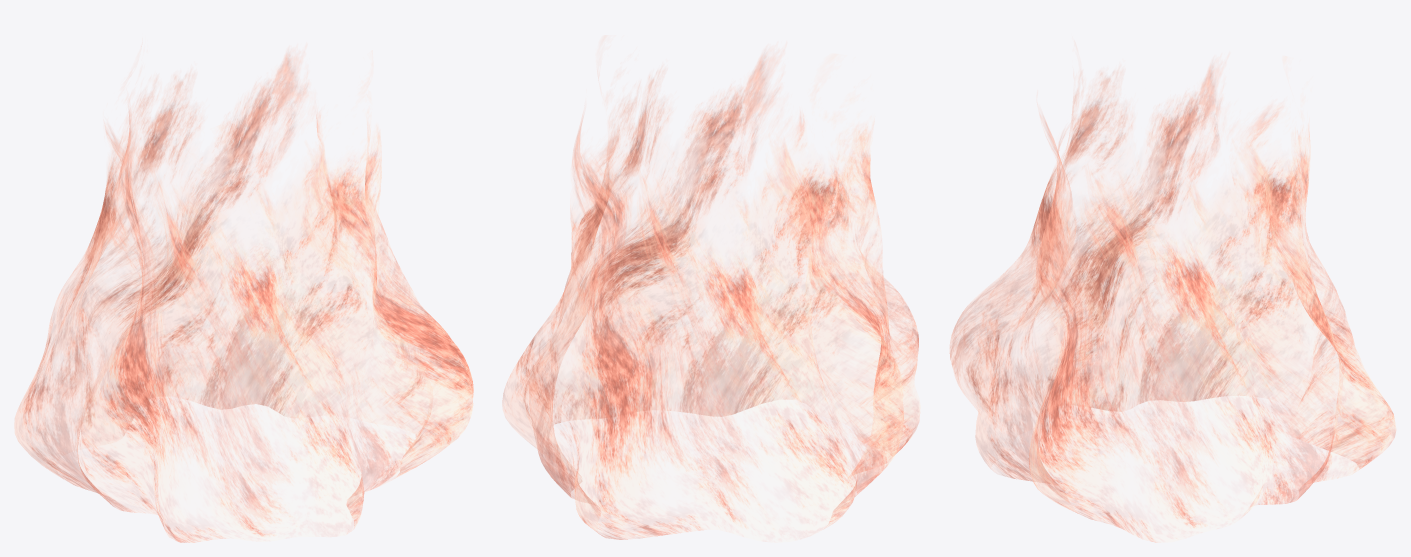
The model's file is devil_skirt_b.glb.
The picture shows the model from 3 angles, left to right: view 1: azimuth 30°, elevation 25°; view 2: azimuth 150°, elevation 25°; view 3: azimuth 270°, elevation 25°; orthographic projection. The views are drawn at different scales.
Visible parts, largest first — view 1: devil_skirt_b; view 2: devil_skirt_b; view 3: devil_skirt_b.
Part boxes in pixels (<box>): devil_skirt_b: <box>14,46,473,542</box>; devil_skirt_b: <box>502,36,920,539</box>; devil_skirt_b: <box>949,57,1396,542</box>.
Bounding box in the file's own units: 11.44 × 12 × 12.5.
1 material, 1 textured.
